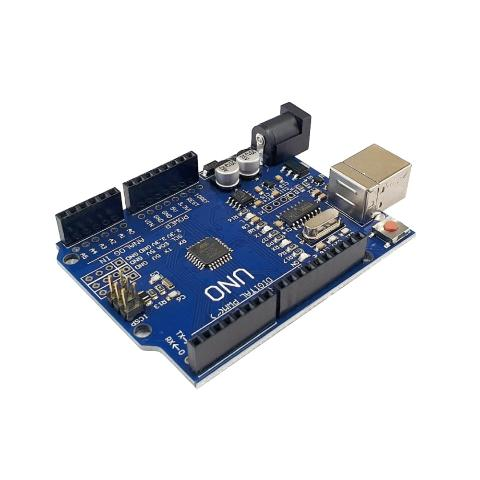Arduino-Uno: (52, 100, 418, 390)
